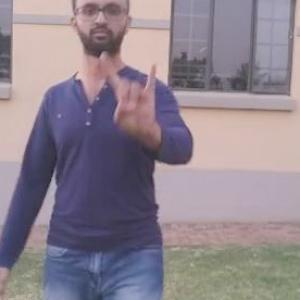takeoff-hand: (98, 46, 161, 149)
